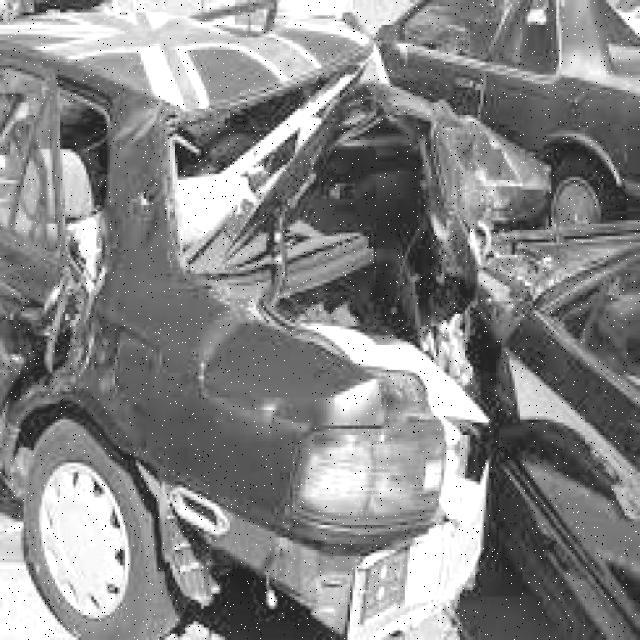car damage: (3, 49, 549, 640)
